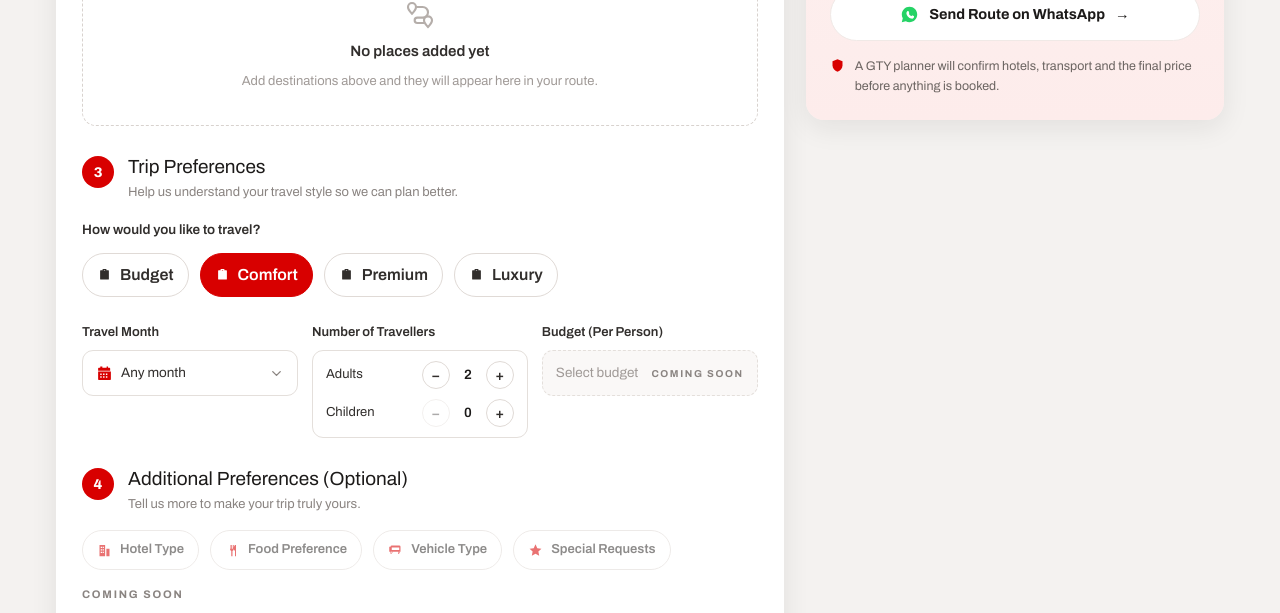
Scenario: TripBuilder — preferences flow into the summary card › toggling a travel style chip updates aria-pressed and the summary "Travel Style" row
The width and height of the screenshot is (1280, 613).
(page scrolled)
Click the button "Luxury": coordinates (506, 275) [454,253,558,297]
(page scrolled)
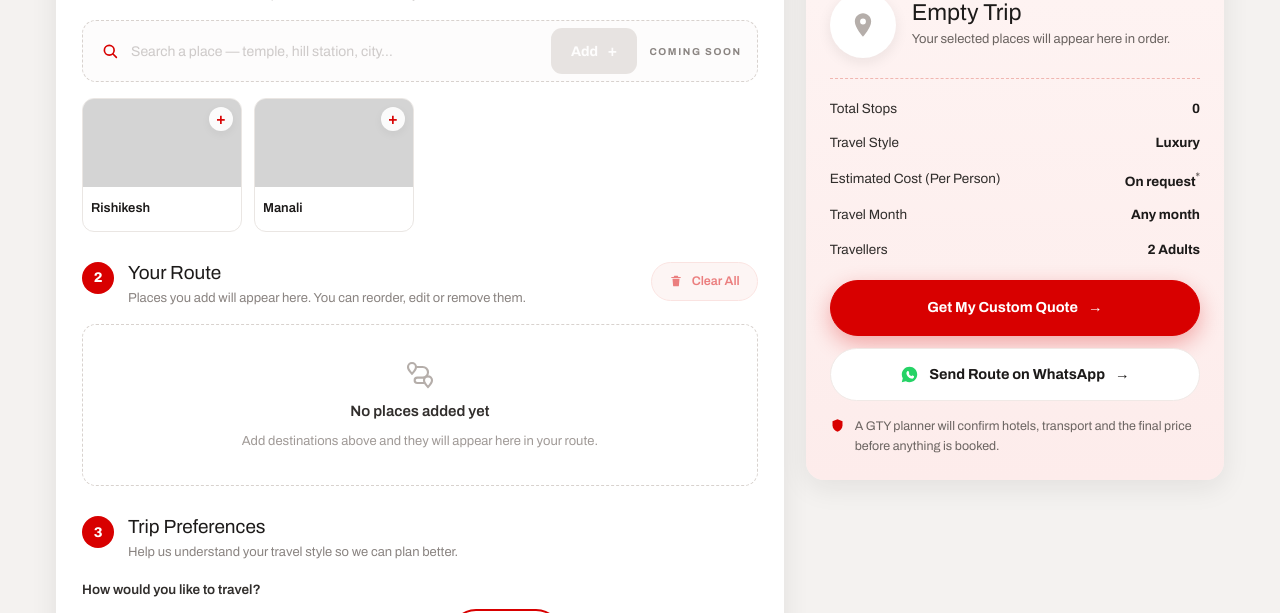
Expected: the text "Luxury" is shown, [1156,133,1200,154]
